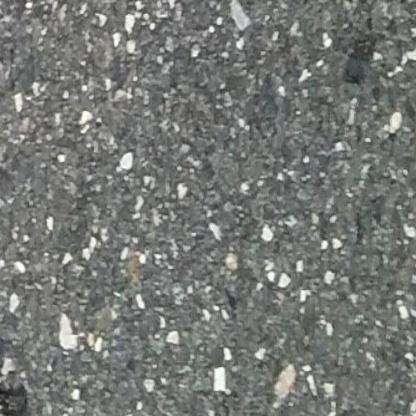Cracks: (0, 339, 41, 416)
